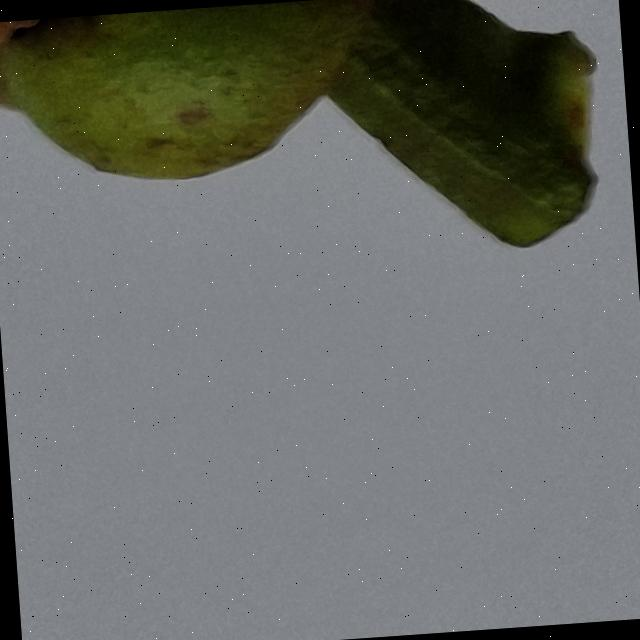mangosteen: (0, 0, 639, 352)
